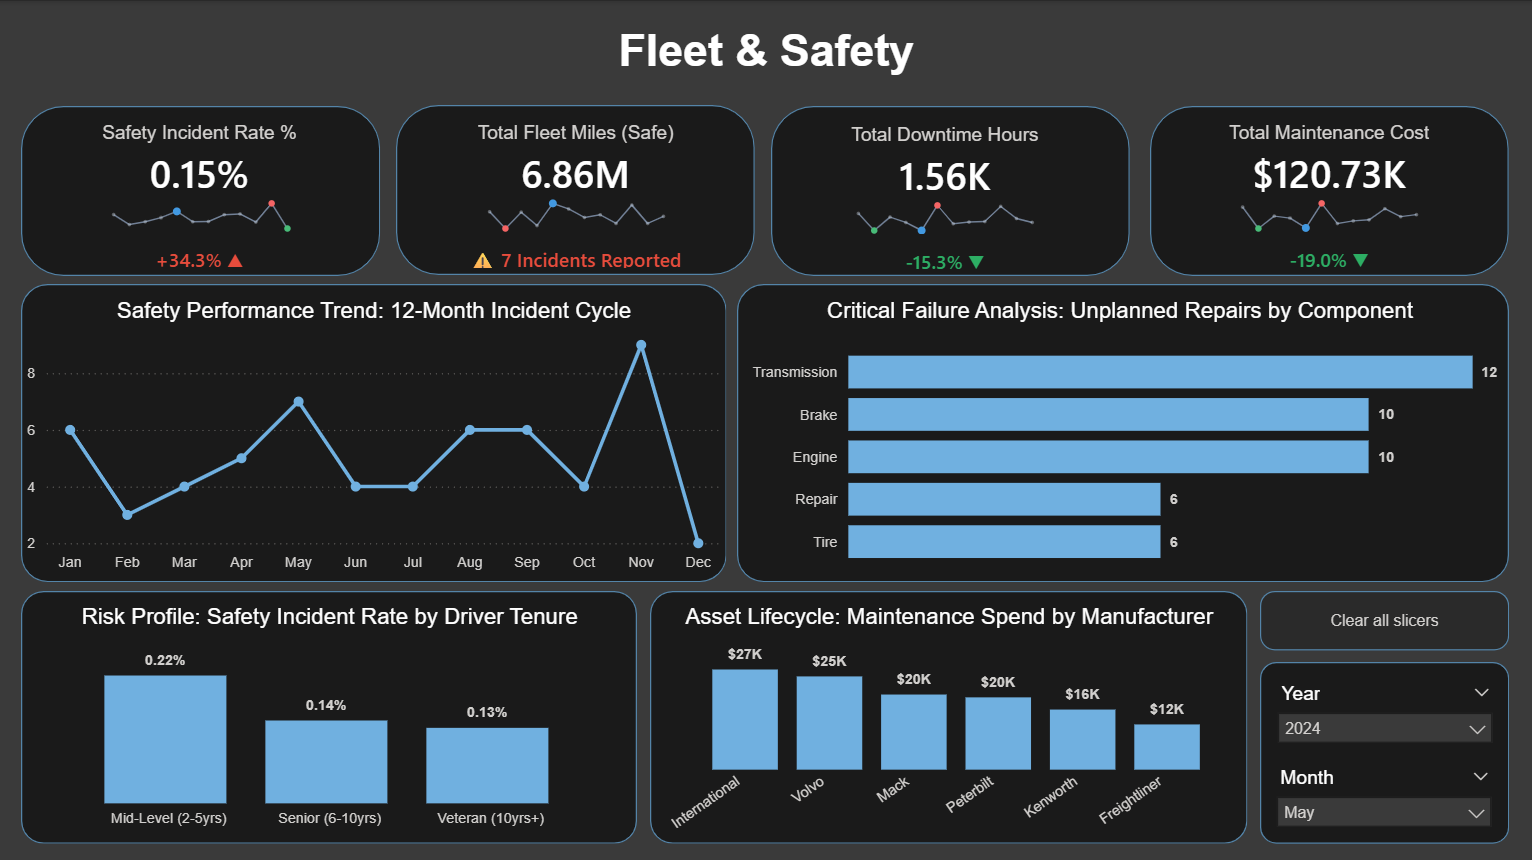

This screenshot's page, from the dashboard's own definition file:
{"tool":"powerbi","page":{"name":"⚠️ Fleet & Safety","canvas":[1280,720],"ordinal":4},"visuals":[{"type":"shape","box":[17.5,87.5,300,142],"z":0},{"type":"shape","box":[615.7,236.4,644.9,249],"z":1000},{"type":"shape","box":[17.5,236.4,589.4,249],"z":2000},{"type":"shape","box":[542.7,493.1,499,211.1],"z":3000},{"type":"shape","box":[17.5,493.1,514.5,211.1],"z":4000},{"type":"shape","box":[1052.4,552.5,208.1,151.7],"z":5000},{"type":"textbox","box":[0,0,1280,77.8],"z":6000},{"type":"actionButton","box":[1052.4,493.1,208.1,49.6],"z":7000},{"type":"cardVisual","fields":{"Data":["_Measures.Active Drivers"]},"box":[17.1,86.2,300.7,154.4],"z":8000},{"type":"columnChart","title":"Asset Lifecycle: Maintenance Spend by Manufacturer","fields":{"Y":["_Measures.Total Maintenance Cost"],"Category":["v_DimTrucks.Make"]},"box":[548.6,503.8,488.3,200.4],"z":9000},{"type":"clusteredColumnChart","title":"Risk Profile: Safety Incident Rate by Driver Tenure","fields":{"Category":["v_DimDrivers.Experience Tier"],"Y":["_Measures.Safety Incident Rate %"]},"box":[28.2,503.8,494.1,194.5],"z":10000},{"type":"lineChart","title":"Safety Performance Trend: 12-Month Incident Cycle","fields":{"Category":["v_DimDate.Month Short"],"Y":["_Measures.Incident Count"],"Series":["v_DimDate.Year"]},"box":[18,247.8,589.8,237],"z":11000},{"type":"shape","box":[330.7,86.6,299.6,142],"z":12000},{"type":"cardVisual","fields":{"Data":["_Measures.Total Fleet Miles (Safe)"]},"box":[330.4,86.2,300.7,154.4],"z":13000},{"type":"shape","box":[643.9,87.5,299.6,142],"z":14000},{"type":"cardVisual","fields":{"Data":["_Measures.Total Downtime Hours"]},"box":[640.1,88,299.9,154],"z":15000},{"type":"shape","box":[961,87.5,299.6,142],"z":16000},{"type":"cardVisual","fields":{"Data":["_Measures.Total Maintenance Cost"]},"box":[959.7,86.2,301.6,154.4],"z":17000},{"type":"slicer","fields":{"Values":["v_DimDate.Month Name"]},"box":[1056.7,634.7,199.3,62.8],"z":18000},{"type":"slicer","fields":{"Values":["v_DimDate.Year"]},"box":[1057.6,564.7,199.3,62.8],"z":19000},{"type":"clusteredBarChart","title":"Critical Failure Analysis: Unplanned Repairs by Component","fields":{"Y":["CountNonNull(v_FactIncidentMaintenance.Maintenance_Id)"],"Category":["v_FactIncidentMaintenance.Maintenance Type"]},"box":[615.7,248,640,237.3],"z":20000}]}

Visuals, with their boxes in screenshot pixels (x1, y1, x2, y2), scaled from the page's 1280x720 canvas onto the 1532x860 screenshot:
shape: (21, 105, 380, 274)
shape: (737, 282, 1509, 580)
shape: (21, 282, 726, 580)
shape: (650, 589, 1247, 841)
shape: (21, 589, 637, 841)
shape: (1260, 660, 1509, 841)
textbox: (0, 0, 1531, 93)
actionButton: (1260, 589, 1509, 648)
cardVisual - _Measures.Active Drivers: (20, 103, 380, 287)
"Asset Lifecycle: Maintenance Spend by Manufacturer" columnChart: (657, 602, 1241, 841)
"Risk Profile: Safety Incident Rate by Driver Tenure" clusteredColumnChart: (34, 602, 625, 834)
"Safety Performance Trend: 12-Month Incident Cycle" lineChart: (22, 296, 727, 579)
shape: (396, 103, 754, 273)
cardVisual - _Measures.Total Fleet Miles (Safe): (395, 103, 755, 287)
shape: (771, 105, 1129, 274)
cardVisual - _Measures.Total Downtime Hours: (766, 105, 1125, 289)
shape: (1150, 105, 1509, 274)
cardVisual - _Measures.Total Maintenance Cost: (1149, 103, 1510, 287)
slicer - v_DimDate.Month Name: (1265, 758, 1503, 833)
slicer - v_DimDate.Year: (1266, 675, 1504, 750)
"Critical Failure Analysis: Unplanned Repairs by Component" clusteredBarChart: (737, 296, 1503, 580)
